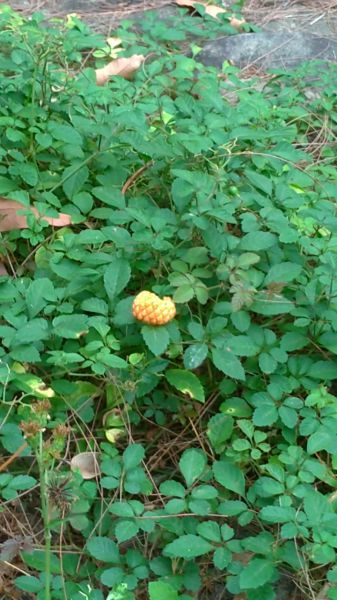eggs: (121, 284, 188, 329)
